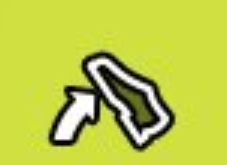ACCELERATOR: (33, 47, 176, 150)
